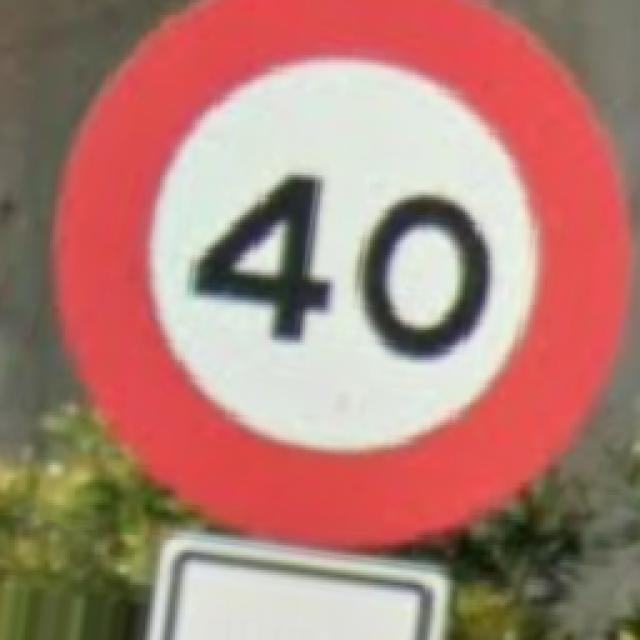Speed Limit -40-: (58, 0, 628, 542)
